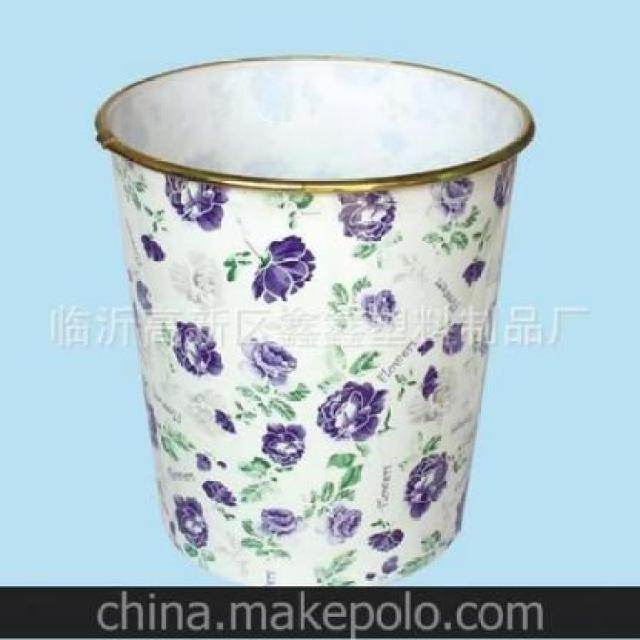dustbin: (94, 49, 542, 587)
